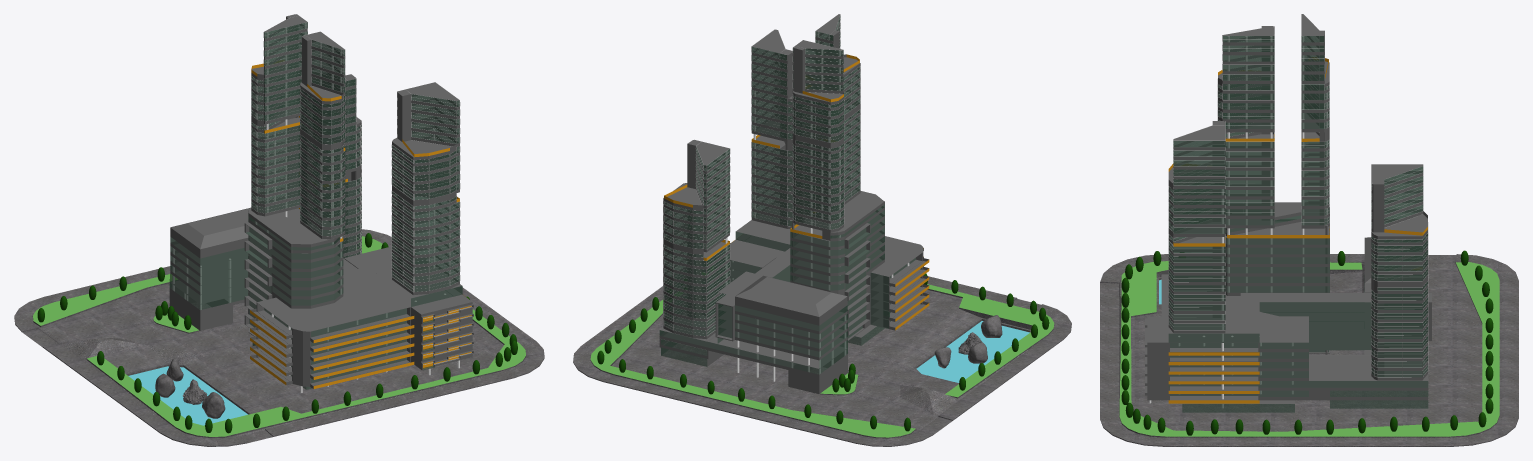
Rendered from verta_horizons_multi_purpose_plaza.glb.
3 renders of one model, left to right at view 1: azimuth 30°, elevation 25°; view 2: azimuth 150°, elevation 25°; view 3: azimuth 270°, elevation 25°, orthographic. The views are drawn at different scales.
Parts seen in each view (by area): view 1: Plane_25, Cube_0, Cube.004_24, Cube.002_2, Cube.001_1, Cube.003_23; view 2: Plane_25, Cube_0, Cube.003_23, Cube.002_2, Cube.004_24, Cube.001_1; view 3: Plane_25, Cube_0, Cube.003_23, Cube.004_24, Cube.001_1, Cube.002_2, Cylinder.014_17, Cylinder.015_18, Cylinder.017_20, Cylinder.021_72.
Part boxes in pixels (x1,y1,x2,y2): Plane_25: (14,229,544,446); Cube_0: (169,206,473,389); Cube.004_24: (391,82,460,295); Cube.002_2: (251,14,307,216); Cube.001_1: (300,31,345,239); Cube.003_23: (342,74,361,258); Plane_25: (573,243,1071,446); Cube_0: (659,189,929,393); Cube.003_23: (663,139,730,339); Cube.002_2: (792,40,844,232); Cube.004_24: (751,29,795,228); Cube.001_1: (815,14,860,204); Plane_25: (1100,254,1518,446); Cube_0: (1145,202,1431,412); Cube.003_23: (1371,164,1428,380); Cube.004_24: (1168,121,1225,333); Cube.001_1: (1217,26,1274,228); Cube.002_2: (1301,14,1329,228); Cylinder.014_17: (1227,36,1229,292); Cylinder.015_18: (1270,36,1272,292); Cylinder.017_20: (1245,36,1247,292); Cylinder.021_72: (1221,189,1223,407).
Bounding box in the file's own units: 128 × 105 × 118.
10 materials, 1 textured.
